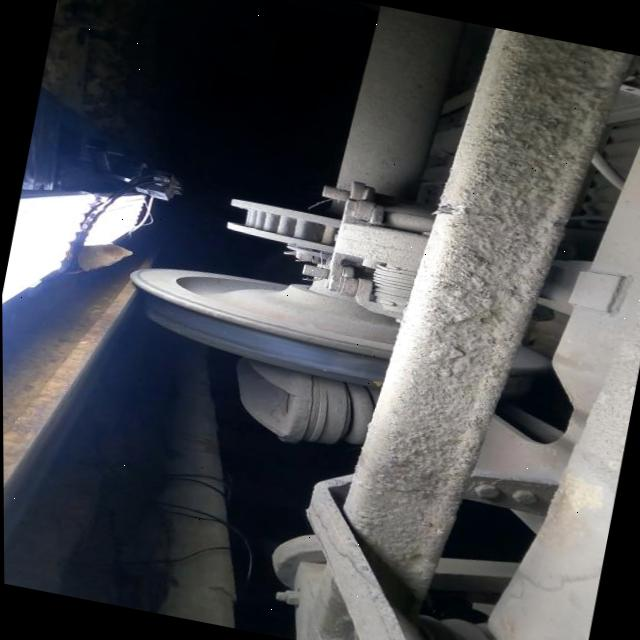Cracks-Scratches: (371, 379, 380, 386)
Shelling: (329, 352, 382, 379)
Wheel: (128, 268, 398, 387)
